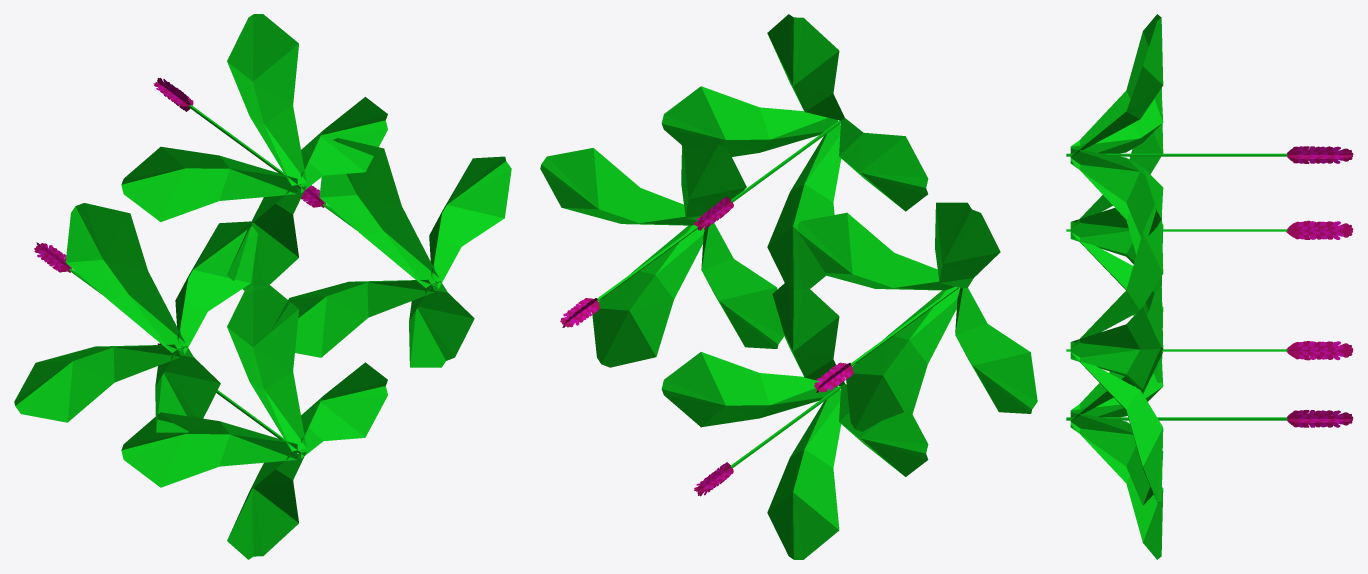
The model's file is BakiBakiHarb.fbx.
3 renders of one model, left to right at view 1: azimuth 30°, elevation 25°; view 2: azimuth 150°, elevation 25°; view 3: azimuth 270°, elevation 25°, orthographic.
Visible parts, largest first — view 1: 平面.003; view 2: 平面.003; view 3: 平面.003.
Boxes of the visible parts, box(x1,y1,x2,y2) form: 平面.003: box(14, 14, 511, 559); 平面.003: box(540, 14, 1037, 559); 平面.003: box(1066, 14, 1353, 559).
Bounding box in the file's own units: 13.53 × 14.09 × 6.81.
